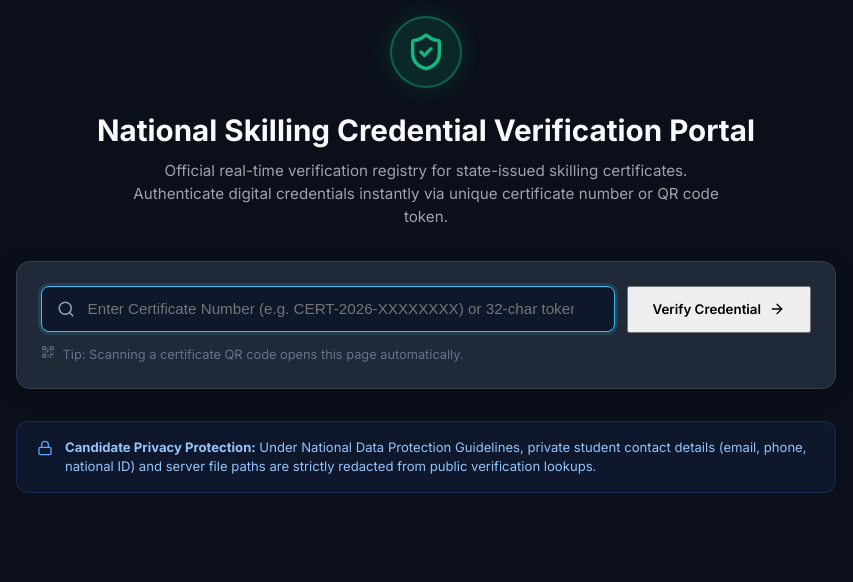
Test: PublicVerification Component › shows error notice when attempting to submit empty input
Click the button "Verify Credential".
click(719, 309)  # box [626,286,811,333]
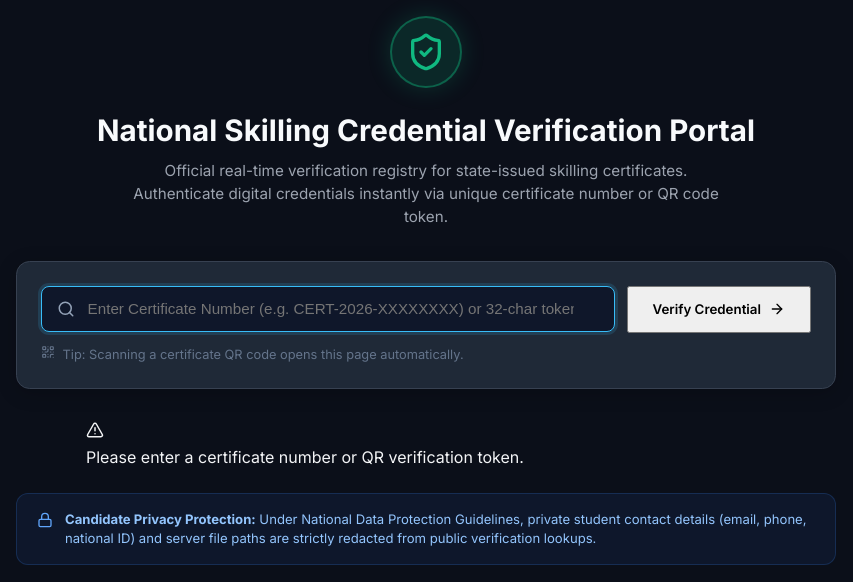
Now the text "Please enter a certificate number or QR verification token." is shown, box [86,447,524,467]
